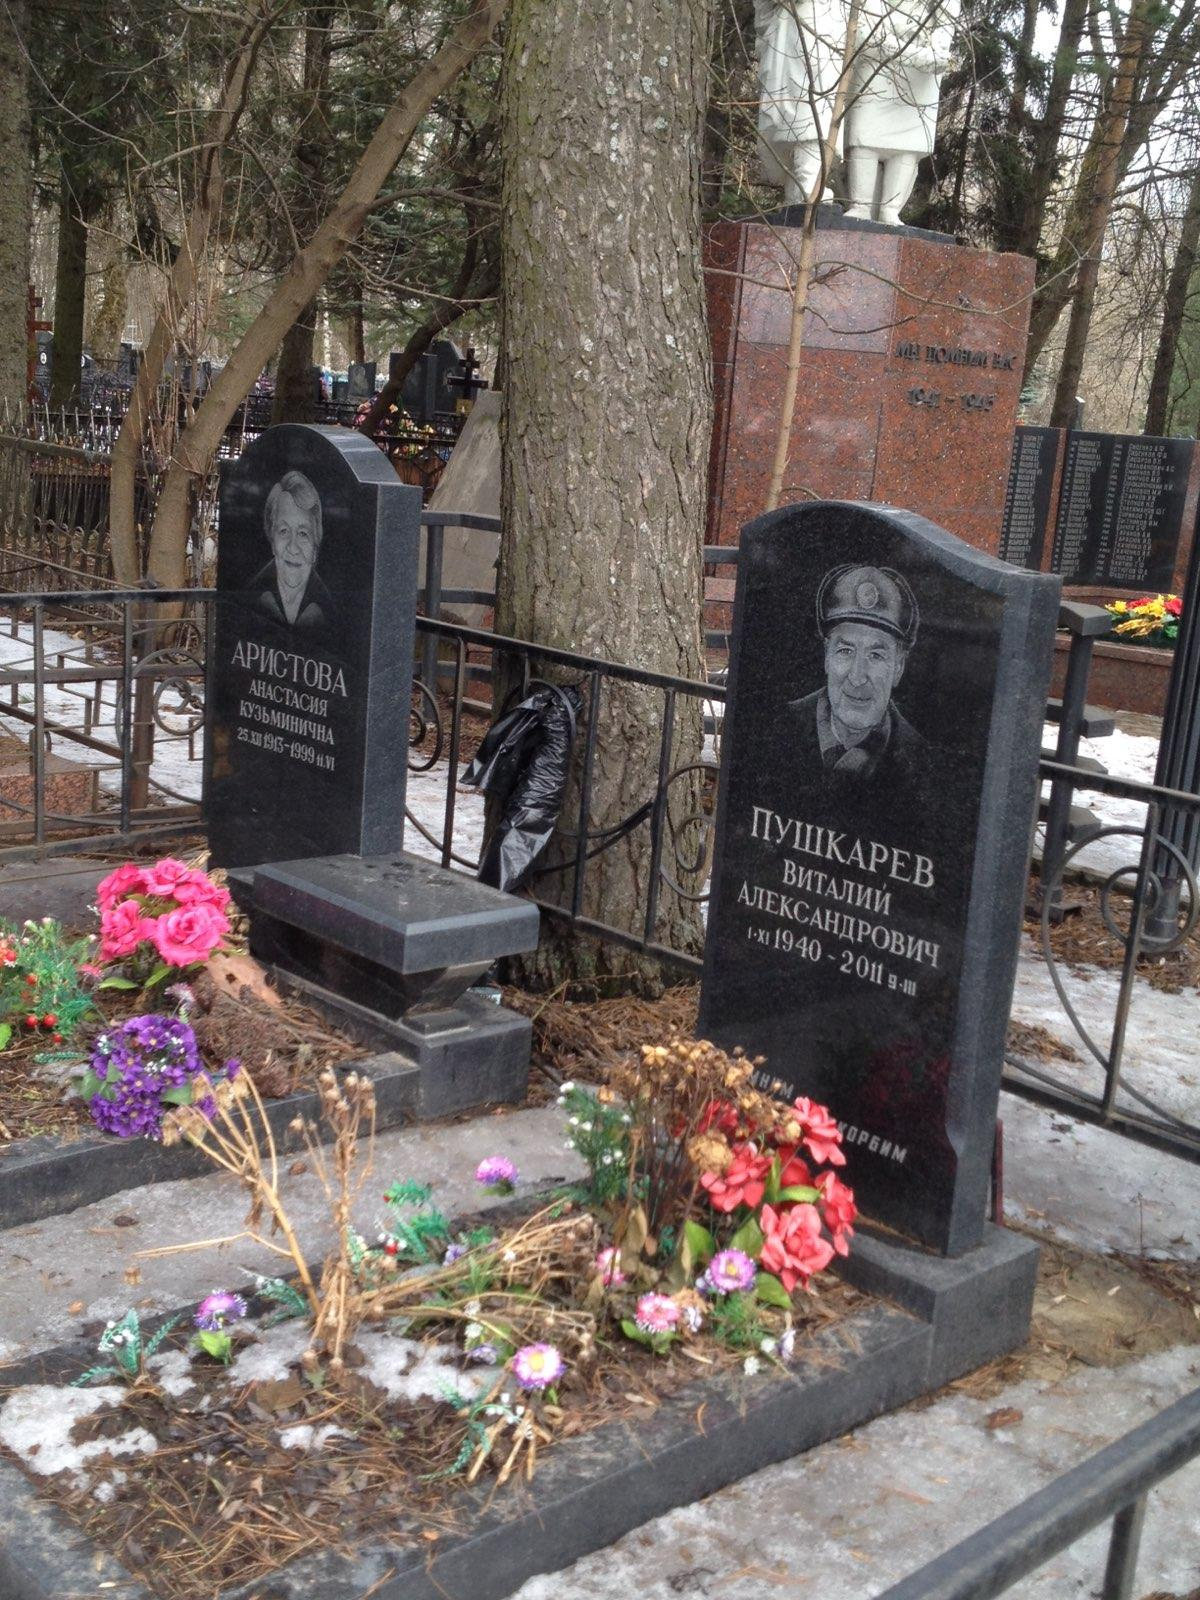upright: (718, 464, 1079, 1353)
